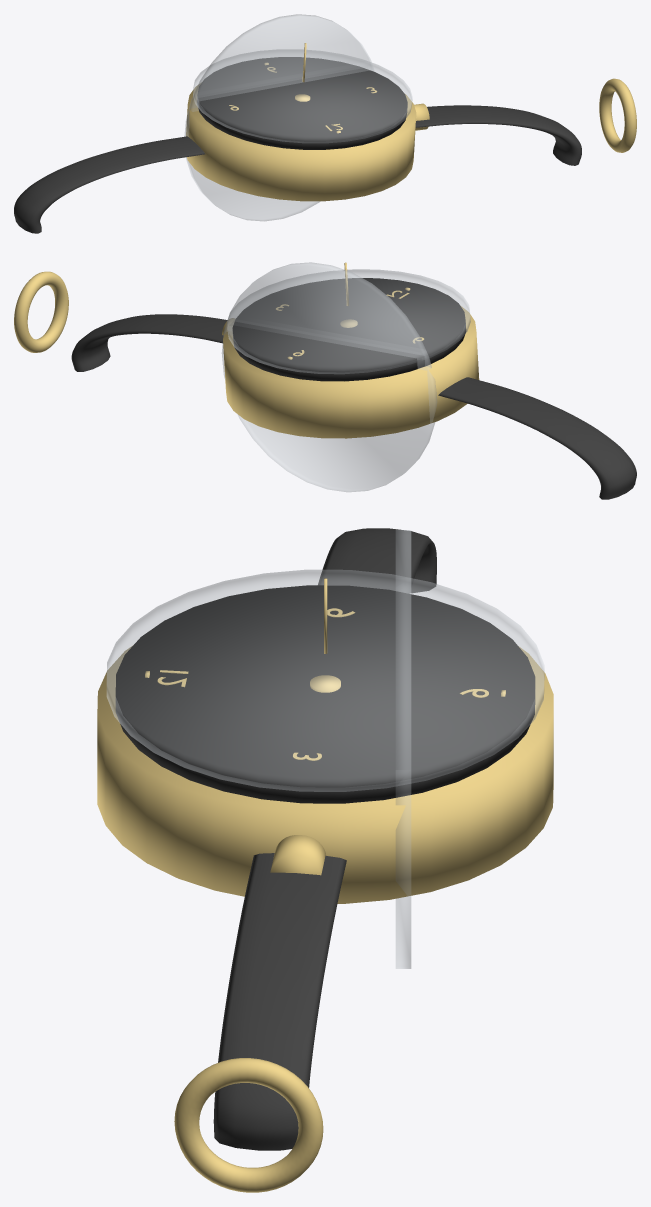
The model's file is wristwatch_ar_classic_blue.glb.
The picture shows the model from 3 angles, top to bottom: view 1: azimuth 30°, elevation 25°; view 2: azimuth 150°, elevation 25°; view 3: azimuth 270°, elevation 25°; orthographic projection. The views are drawn at different scales.
Visible parts, largest first — view 1: Watch_Dial, Watch_Glass.001, Watch_Case, Watch_Glass, Band_Left, Band_Right, Watch_Buckle; view 2: Watch_Glass, Watch_Dial, Watch_Case, Watch_Glass.001, Band_Left, Band_Right, Watch_Buckle; view 3: Watch_Glass.001, Watch_Dial, Watch_Case, Band_Right, Watch_Buckle, Watch_Glass, Band_Left, Watch_Crown.
Boxes of the visible parts, x1=… form: Watch_Dial: x1=197, y1=57, x2=407, y2=149; Watch_Glass.001: x1=193, y1=49, x2=412, y2=143; Watch_Case: x1=186, y1=83, x2=416, y2=201; Watch_Glass: x1=184, y1=14, x2=374, y2=221; Band_Left: x1=14, y1=136, x2=204, y2=233; Band_Right: x1=415, y1=105, x2=581, y2=165; Watch_Buckle: x1=599, y1=78, x2=636, y2=152; Watch_Glass: x1=221, y1=262, x2=437, y2=492; Watch_Dial: x1=232, y1=278, x2=466, y2=381; Watch_Case: x1=223, y1=306, x2=479, y2=438; Watch_Glass.001: x1=227, y1=269, x2=470, y2=374; Band_Left: x1=438, y1=377, x2=636, y2=499; Band_Right: x1=71, y1=314, x2=227, y2=371; Watch_Buckle: x1=14, y1=271, x2=68, y2=352; Watch_Glass.001: x1=106, y1=569, x2=544, y2=791; Watch_Dial: x1=115, y1=585, x2=535, y2=803; Watch_Case: x1=97, y1=646, x2=553, y2=903; Band_Right: x1=213, y1=853, x2=346, y2=1150; Watch_Buckle: x1=174, y1=1058, x2=323, y2=1192; Watch_Glass: x1=395, y1=530, x2=411, y2=968; Band_Left: x1=318, y1=528, x2=436, y2=593; Watch_Crown: x1=270, y1=835, x2=326, y2=875.
Bounding box in the file's own units: 0.1272 × 0.0422 × 0.0438.
